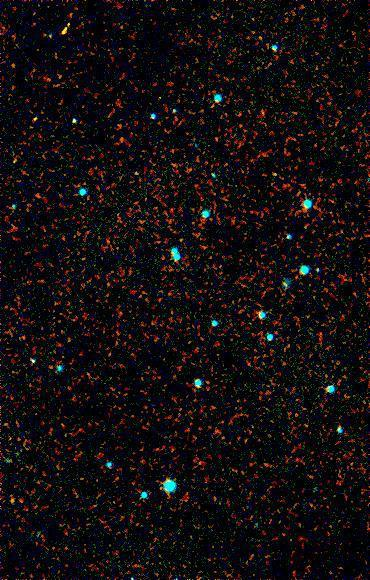star: (0, 486, 28, 516)
